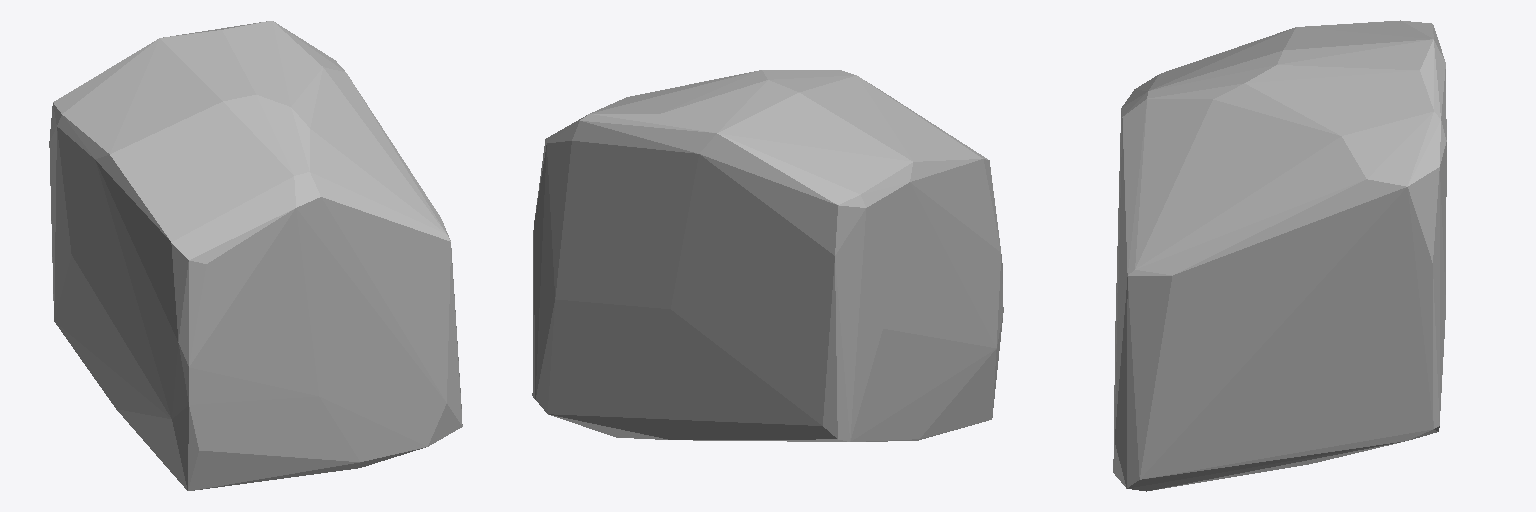
robot.urdf — root:
<robot name="root">
  <link name="link_rock13_convex_piece_0">
    <inertial>
      <origin rpy="0 0 0" xyz="0 0 0"/>
      <mass value="2.19E+06"/>
      <inertia ixx="6.72E+09" ixy="3.66E+08" ixz="-7.83E+08" iyy="7.44E+09" iyz="3.82E+08" izz="6.57E+09"/>
    </inertial>
    <visual>
      <origin rpy="0 0 0" xyz="0 0 0"/>
      <geometry>
        <mesh filename="rock13_convex_piece_0.obj" scale="1.0000E+00 1.0000E+00 1.0000E+00"/>
      </geometry>
      <material name="">
        <color rgba="7.50E-01 7.50E-01 7.50E-01 1"/>
      </material>
    </visual>
    <collision>
      <origin rpy="0 0 0" xyz="0 0 0"/>
      <geometry>
        <mesh filename="rock13_convex_piece_0.obj" scale="1.0000E+00 1.0000E+00 1.0000E+00"/>
      </geometry>
    </collision>
  </link>
</robot>

--- What the picture shows (computed from the rendered views, not written in the file) ---
3 views of the same robot in one strip: view 1: azimuth 30°, elevation 25°; view 2: azimuth 150°, elevation 25°; view 3: azimuth 270°, elevation 25° (orthographic).
Model root with 1 links and 0 joints (none), rooted at link_rock13_convex_piece_0, posed all joints at 0.
Links seen in each view (by area): view 1: link_rock13_convex_piece_0; view 2: link_rock13_convex_piece_0; view 3: link_rock13_convex_piece_0.
Boxes of the visible links, x1,y1,x2,y2 form: link_rock13_convex_piece_0: (49,21,462,490); link_rock13_convex_piece_0: (532,70,1003,441); link_rock13_convex_piece_0: (1113,20,1446,491).
Bounding box of the posed robot: 143 × 130 × 163 m (x, y, z).
1 mesh visuals loaded from 1 distinct referenced files (1 OBJ).